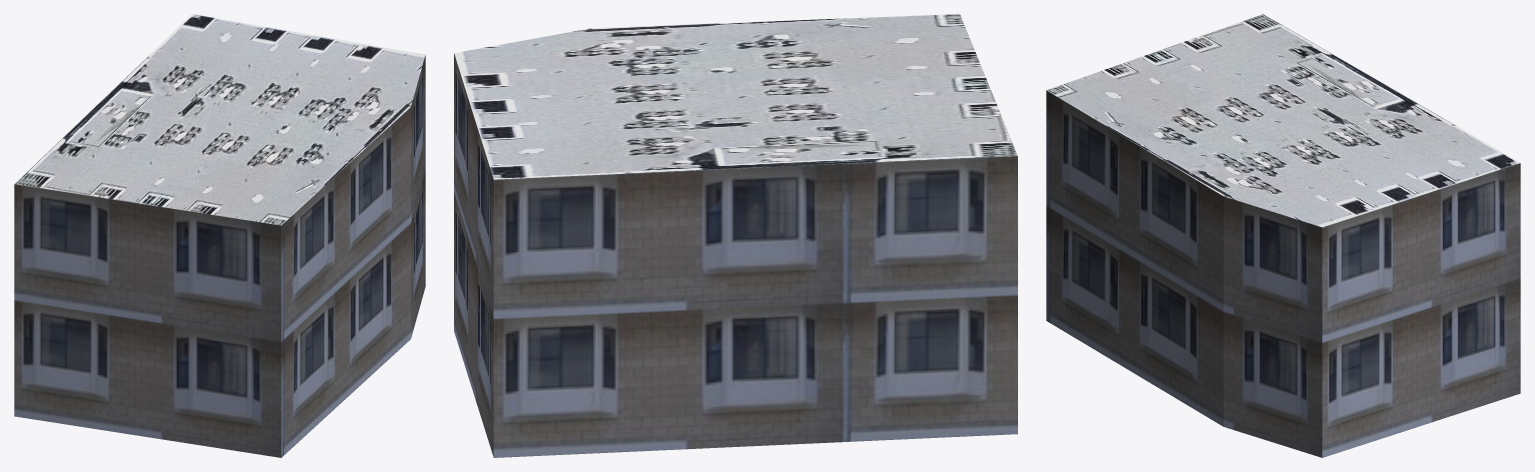
Rendered from ResTex__2799.fbx.
3 views of the same model, side by side, from view 1: azimuth 30°, elevation 25°; view 2: azimuth 150°, elevation 25°; view 3: azimuth 270°, elevation 25° (orthographic). The views are drawn at different scales.
Parts seen in each view (by area): view 1: CityEngineMaterial_3_m, CityEngineMaterial_4_m; view 2: CityEngineMaterial_3_m, CityEngineMaterial_4_m; view 3: CityEngineMaterial_3_m, CityEngineMaterial_4_m.
Part boxes in pixels (x1,y1,x2,y2): CityEngineMaterial_3_m: [14, 55, 425, 457]; CityEngineMaterial_4_m: [15, 14, 425, 225]; CityEngineMaterial_3_m: [454, 53, 1017, 457]; CityEngineMaterial_4_m: [454, 14, 1017, 179]; CityEngineMaterial_3_m: [1046, 90, 1520, 457]; CityEngineMaterial_4_m: [1046, 14, 1519, 227].
Size of the model in its own units: 11.91 by 6 by 11.19.
Materials: 2 (2 with a texture image).
